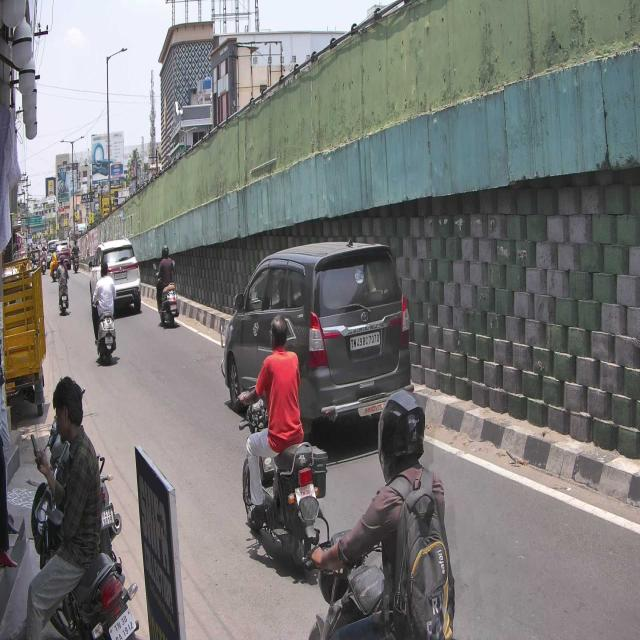single_rider: (236, 312, 332, 583)
